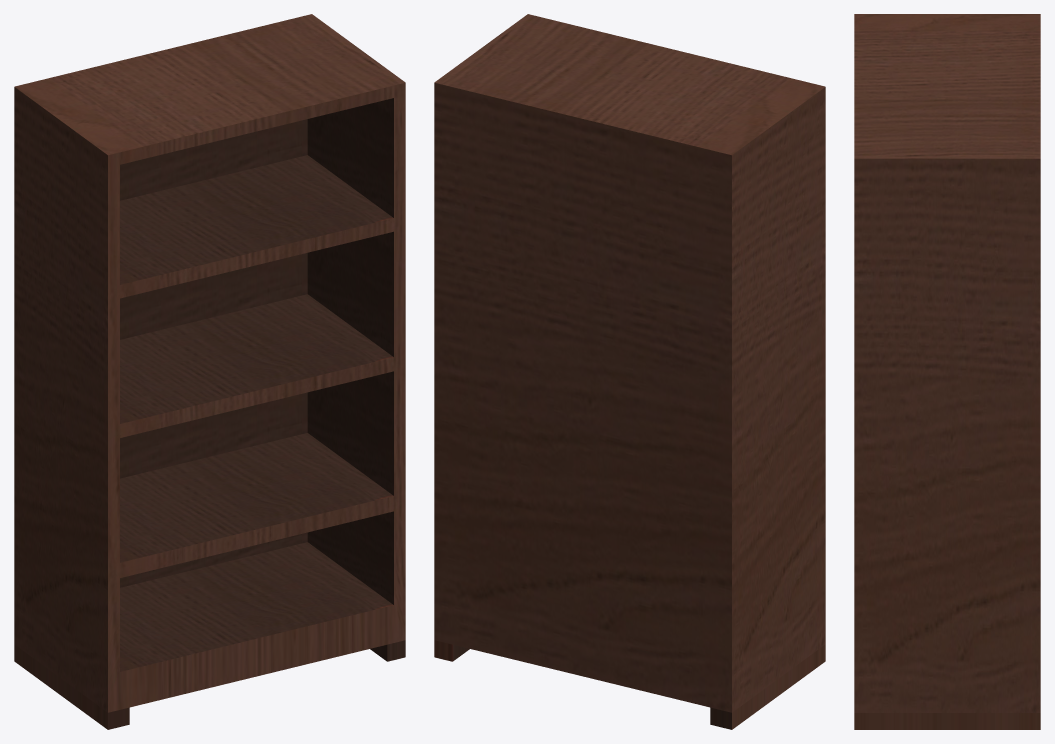
File: bg_shelf.fbx
3 renders of one model, left to right at view 1: azimuth 30°, elevation 25°; view 2: azimuth 150°, elevation 25°; view 3: azimuth 270°, elevation 25°, orthographic.
Parts seen in each view (by area): view 1: pCube1; view 2: pCube1; view 3: pCube1.
Boxes of the visible parts, <box> form: pCube1: <box>14,14,405,729</box>; pCube1: <box>434,14,825,729</box>; pCube1: <box>854,14,1040,729</box>.
Bounding box in the file's own units: 1 × 1.84 × 0.5455.
